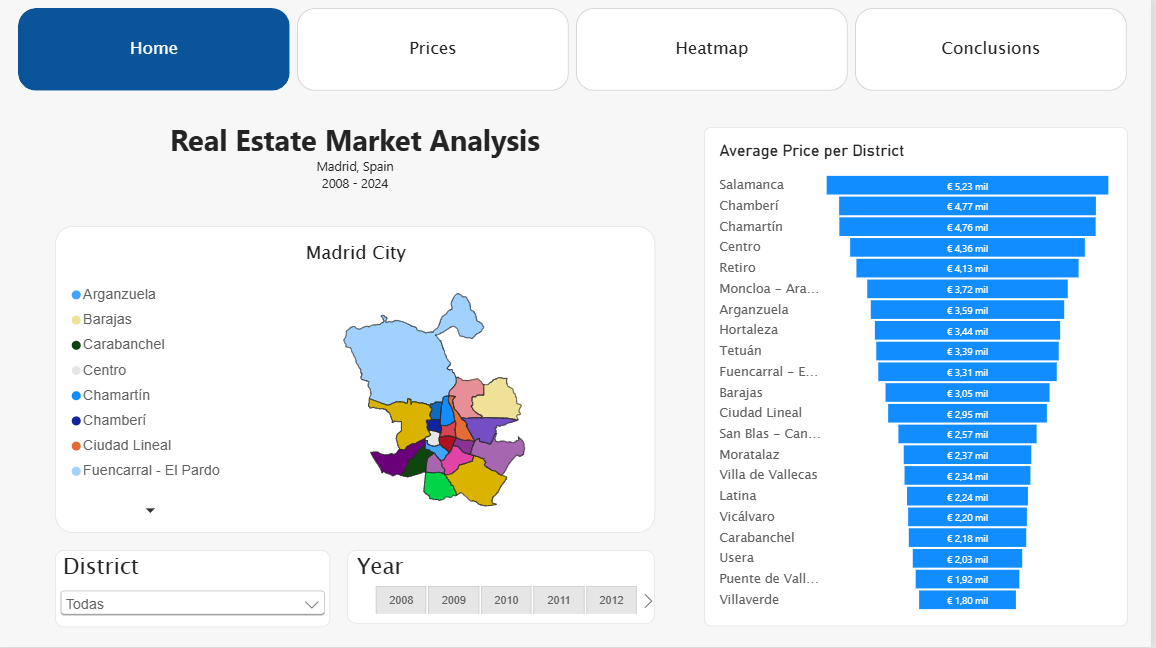

Layout of this report page (visuals, bound fields, positions):
{"tool":"powerbi","page":{"name":"Home","canvas":[1280,720],"ordinal":0},"visuals":[{"type":"textbox","box":[62.2,114.4,666.7,137.8],"z":0},{"type":"pageNavigator","box":[21.1,10,1234.4,92.2],"z":1000},{"type":"slicer","fields":{"Values":["DimDistrito.Distrito"]},"box":[62.5,612.5,305.6,85.6],"z":2000},{"type":"slicer","title":"Year","fields":{"Values":["DimFecha.Año"]},"box":[386.7,612.2,342.2,82.2],"z":3000},{"type":"funnel","title":"Average Price per District","fields":{"Category":["DimDistrito.Distrito"],"Y":["FactPrecios.Precio Promedio"]},"box":[783.8,142.5,471.2,555],"z":4000},{"type":"shapeMap","title":"Madrid City","fields":{"Category":["DimDistrito.Distrito"],"Series":["DimDistrito.Distrito"]},"box":[62.2,252.2,666.7,341.1],"z":5000}]}

Visuals, with their boxes in screenshot pixels (x1, y1, x2, y2), scaled from the page's 1280x720 canvas onto the 1156x648 screenshot:
textbox: pyautogui.locateOnScreen(56, 103, 658, 227)
pageNavigator: pyautogui.locateOnScreen(19, 9, 1134, 92)
slicer - DimDistrito.Distrito: pyautogui.locateOnScreen(56, 551, 332, 628)
"Year" slicer: pyautogui.locateOnScreen(349, 551, 658, 625)
"Average Price per District" funnel: pyautogui.locateOnScreen(708, 128, 1133, 628)
"Madrid City" shapeMap: pyautogui.locateOnScreen(56, 227, 658, 534)
